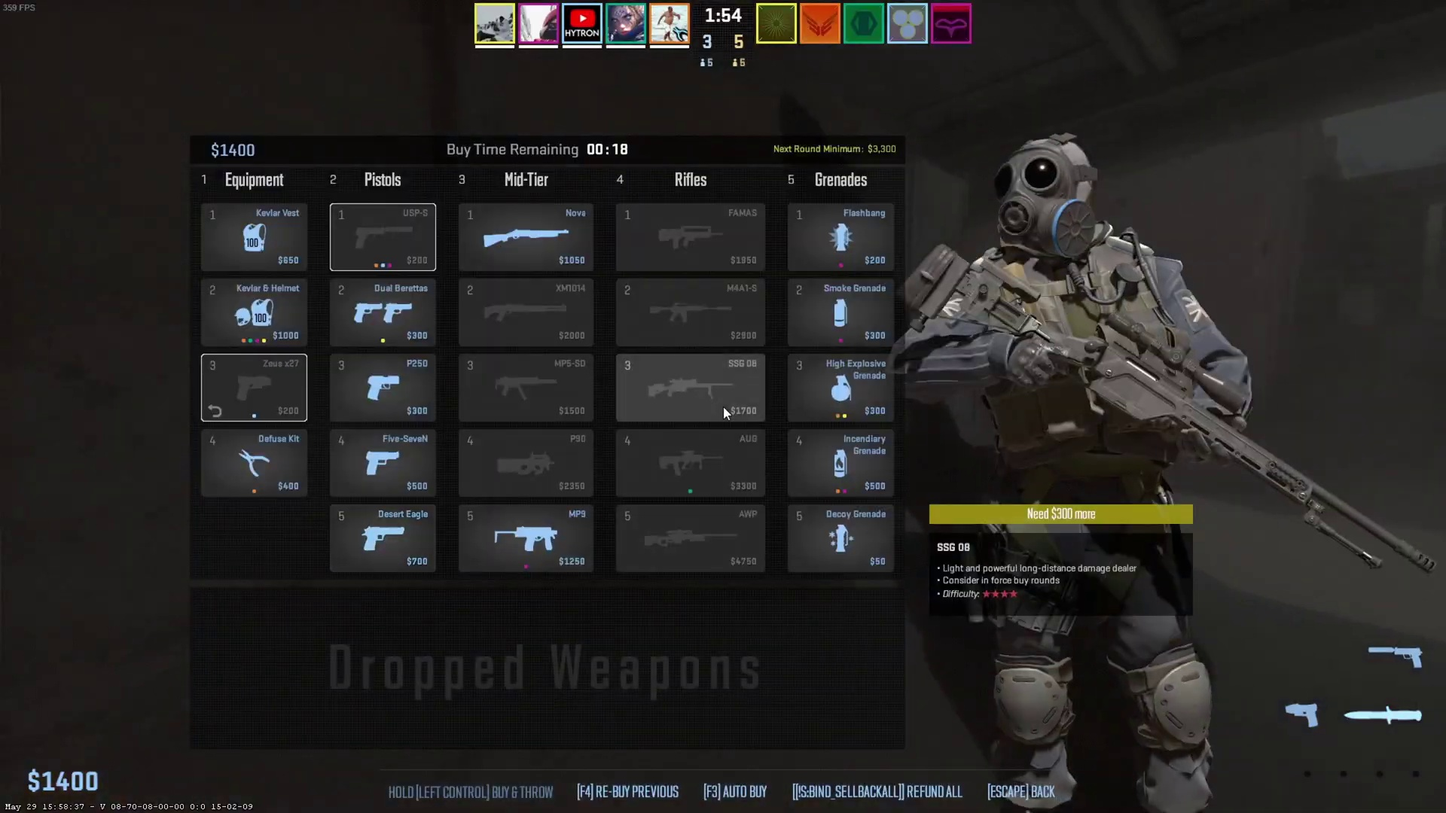CT: (962, 138, 1220, 811)
